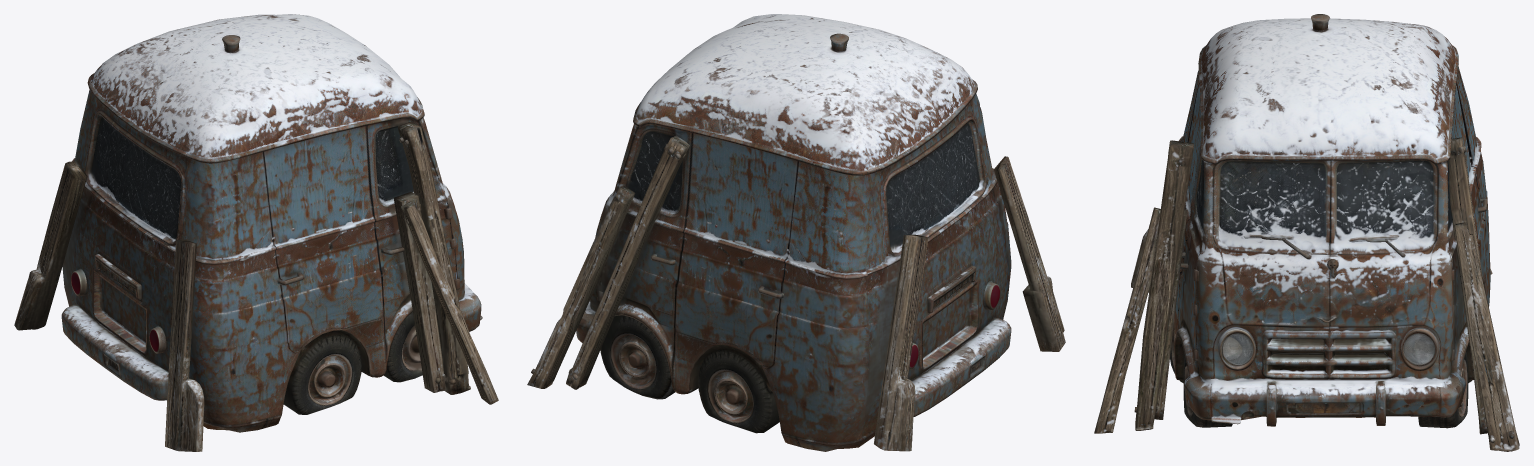
3 views of the same model, side by side, from view 1: azimuth 30°, elevation 25°; view 2: azimuth 150°, elevation 25°; view 3: azimuth 270°, elevation 25° (orthographic). The views are drawn at different scales.
Visible parts, largest first — view 1: tripo_96b83944_0111_4f56_8375_31c7b7f62617; view 2: tripo_96b83944_0111_4f56_8375_31c7b7f62617; view 3: tripo_96b83944_0111_4f56_8375_31c7b7f62617.
Boxes of the visible parts, <box> form: tripo_96b83944_0111_4f56_8375_31c7b7f62617: <box>14,14,498,451</box>; tripo_96b83944_0111_4f56_8375_31c7b7f62617: <box>527,14,1065,451</box>; tripo_96b83944_0111_4f56_8375_31c7b7f62617: <box>1094,14,1519,451</box>.
Bounding box in the file's own units: 0.9829 × 0.8862 × 0.9995.
1 material, 1 textured.
